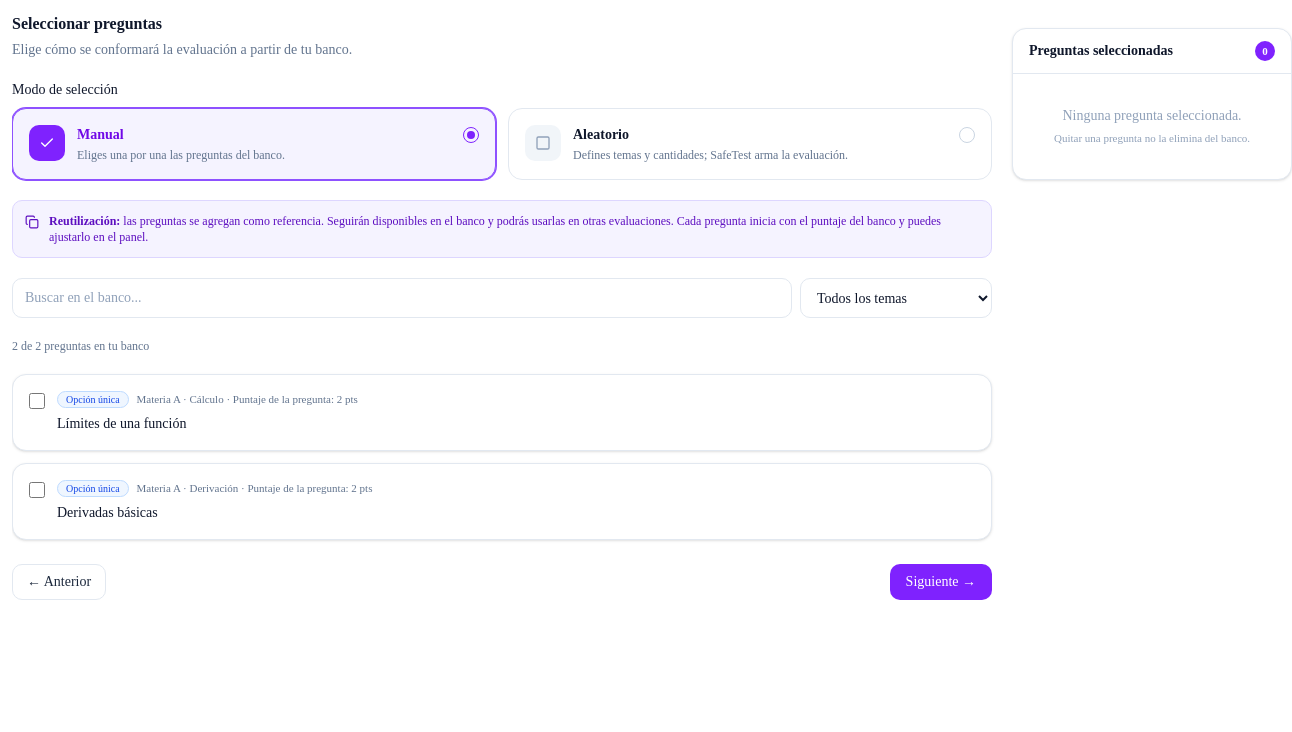
SeleccionPreguntas › carga el banco de la materia de la evaluación, filtra por tema y búsqueda y cuenta el banco visible
The width and height of the screenshot is (1292, 732).
Expected: the dropdown named "Filtrar por tema" is shown, [800,278,992,318]
Expected: the text "2 de 2 preguntas en tu banco" is shown, [12,339,149,353]
Type "limite" into the search field labelled "Buscar en el banco". click: {"x": 402, "y": 298}
box: [12,278,792,318]
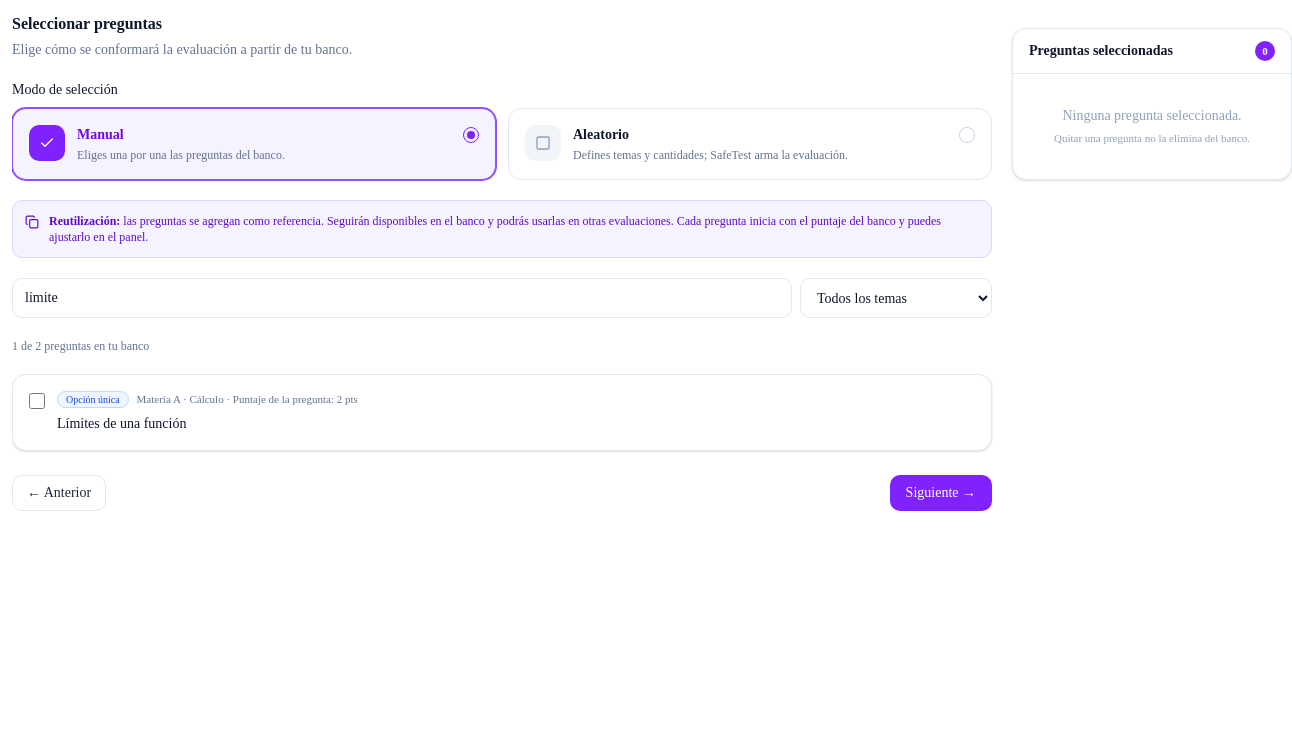
Expected: the text "Límites de una función" is shown, [57,416,186,431]
Now the text "Derivadas básicas" is gone
Select "Derivación" in the dropdown named "Filtrar por tema". click: {"x": 896, "y": 298}
box: [800,278,992,318]
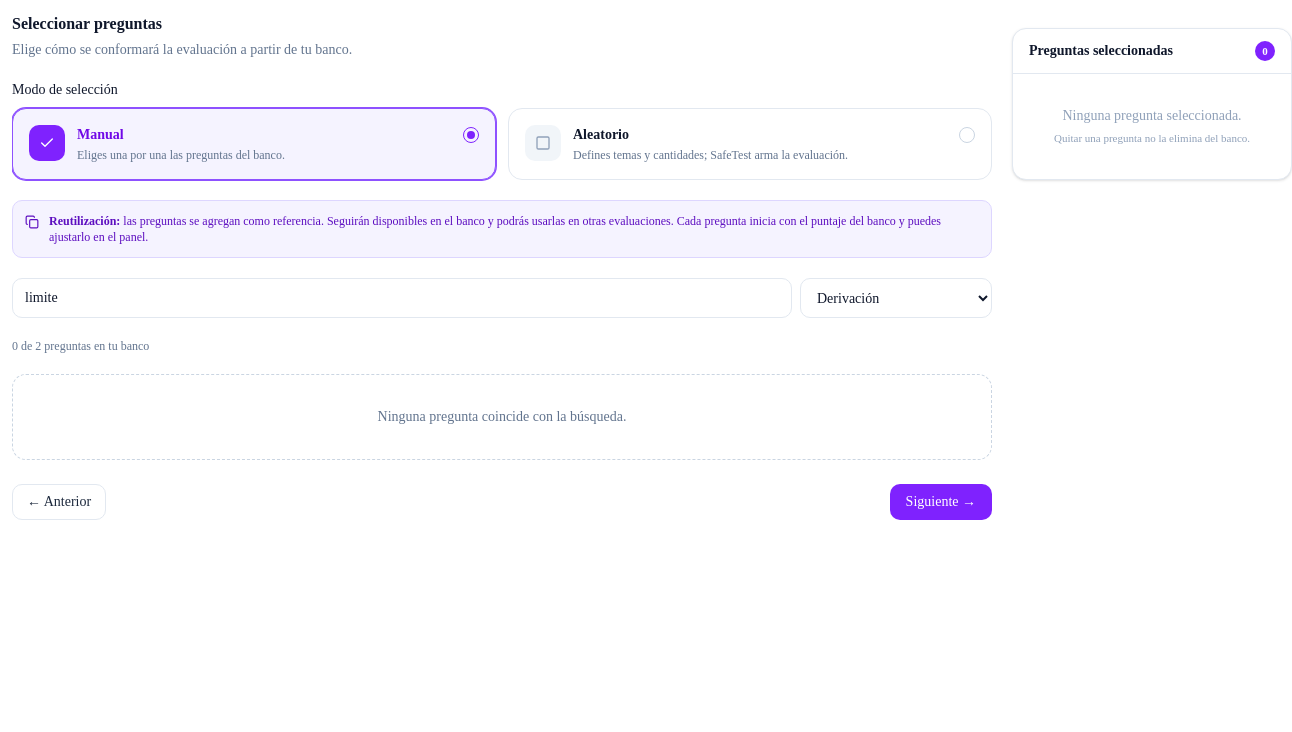
Now the text "Ninguna pregunta coincide con la búsqueda." is shown, box [12,374,992,460]
Now the text "0 de 2 preguntas en tu banco" is shown, box [12,339,149,353]
